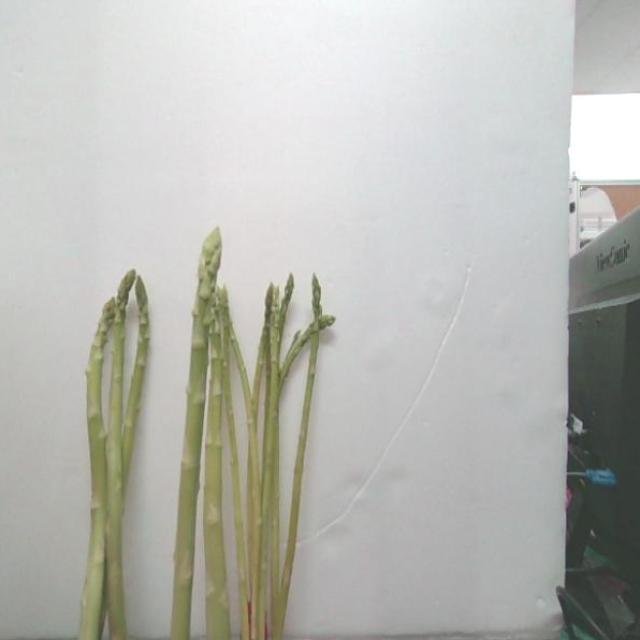aspargus: (171, 230, 221, 640), (73, 296, 116, 640)
